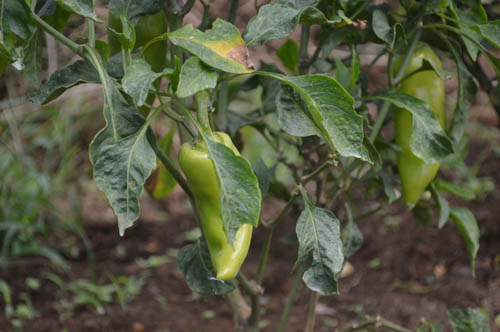ChiliPepper: (184, 134, 252, 286), (394, 44, 444, 215)
